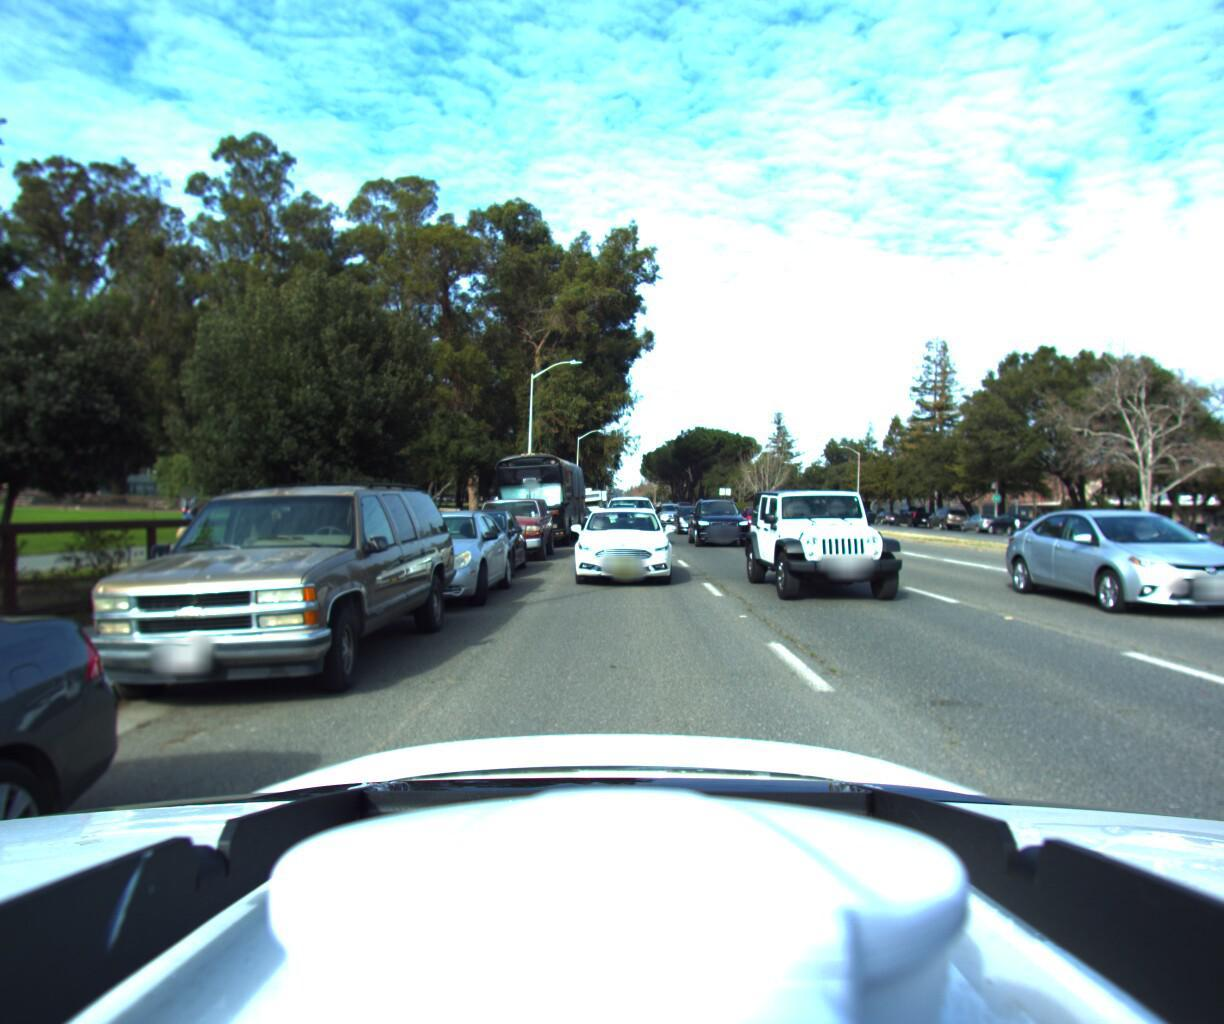bus: (482, 438, 589, 552)
car: (32, 460, 468, 724), (1014, 500, 1224, 626), (747, 479, 933, 608), (336, 502, 522, 613), (571, 499, 673, 588), (431, 507, 527, 582), (468, 495, 559, 564), (1075, 506, 1174, 547), (687, 492, 753, 546), (599, 493, 655, 543), (671, 501, 716, 536), (733, 504, 784, 534), (987, 510, 1041, 535), (957, 513, 1007, 532), (924, 510, 971, 529), (654, 502, 687, 525), (870, 507, 904, 523)
other_vehicle: (567, 483, 607, 523), (580, 487, 616, 521)
